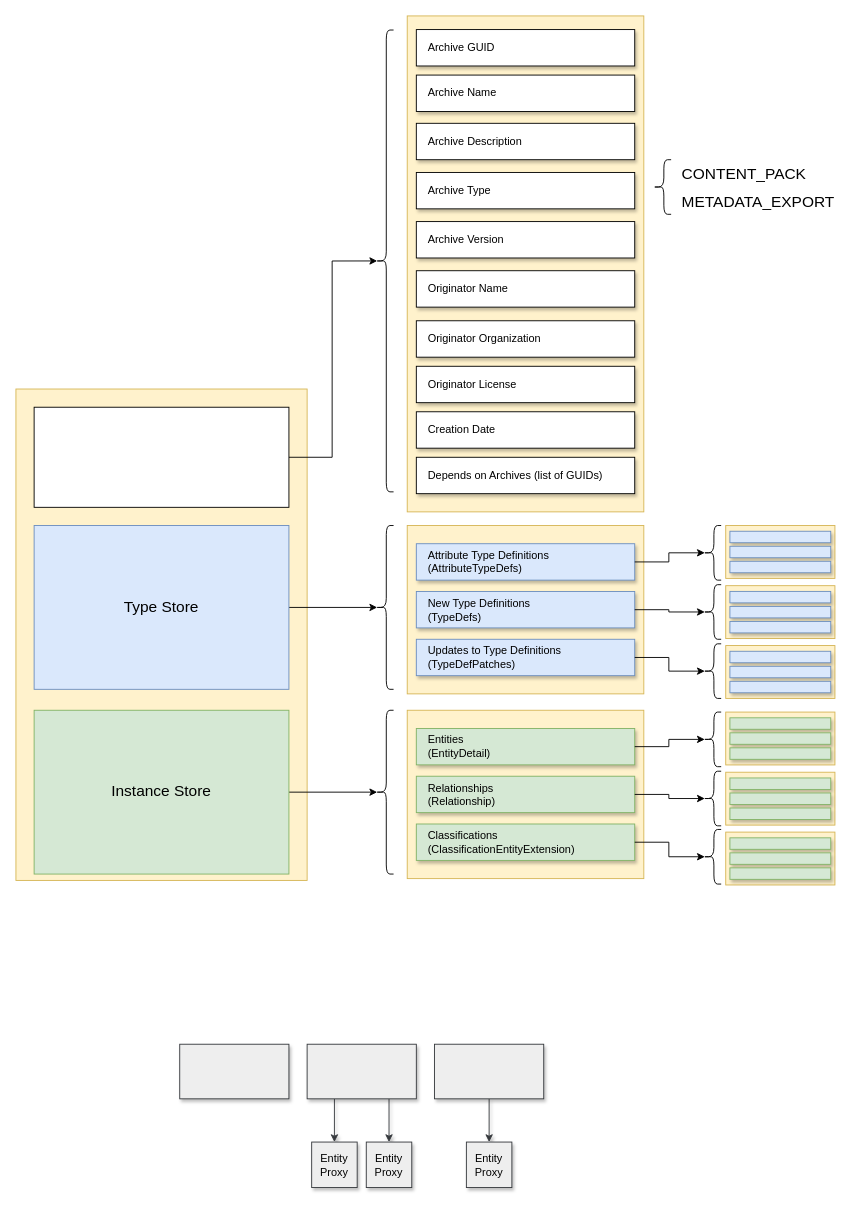
The diagram is 853 pixels wide and 1210 high, and some of its shapes have lost their labels. The centre of each missing label's shape, as x and y in pixels:
Classification: the point at 489,1072
Entity: the point at 234,1072
Header: the point at 161,456
Relationship: the point at 362,1072
